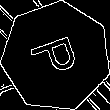P_E: (26, 30, 86, 83)
